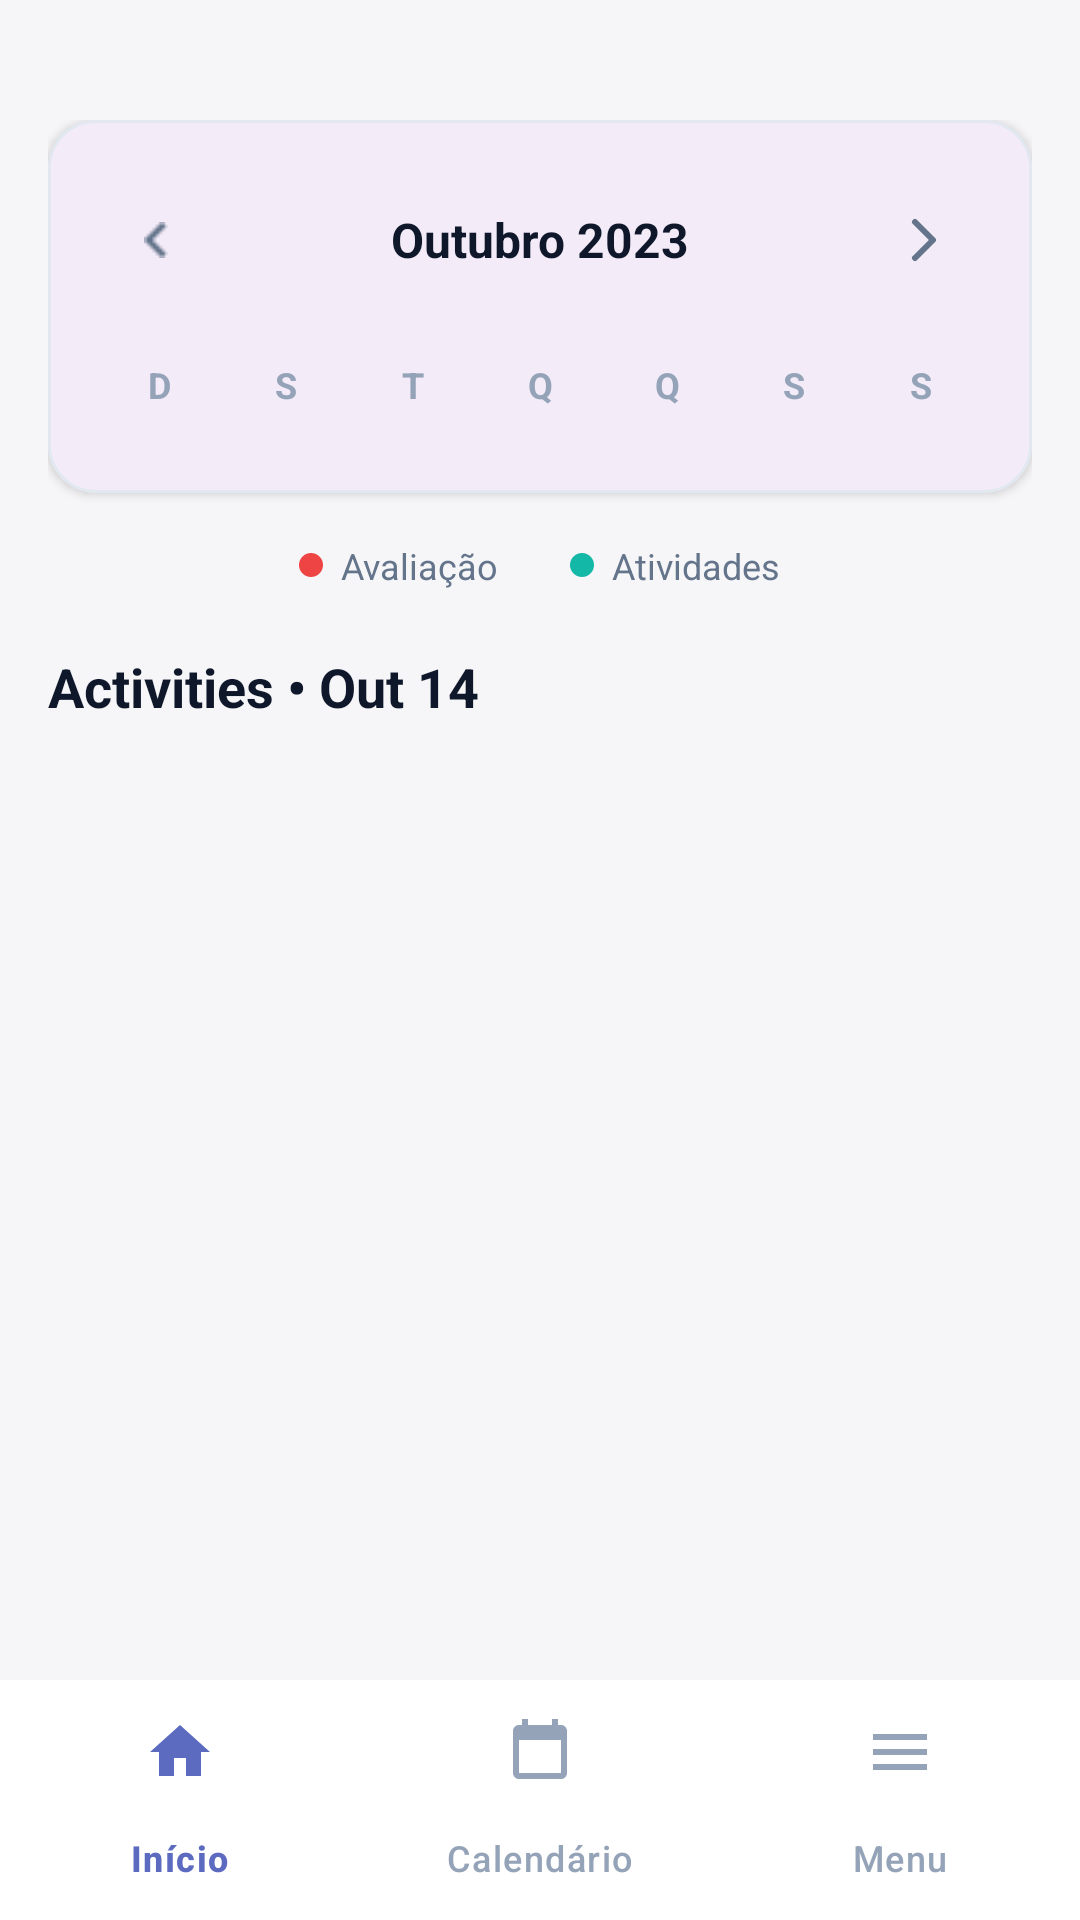

Point at icon controls on the screen. Image size 1080x1920, points as [x,y].
Mês anterior: [156,240]
Próximo mês: [924,240]
